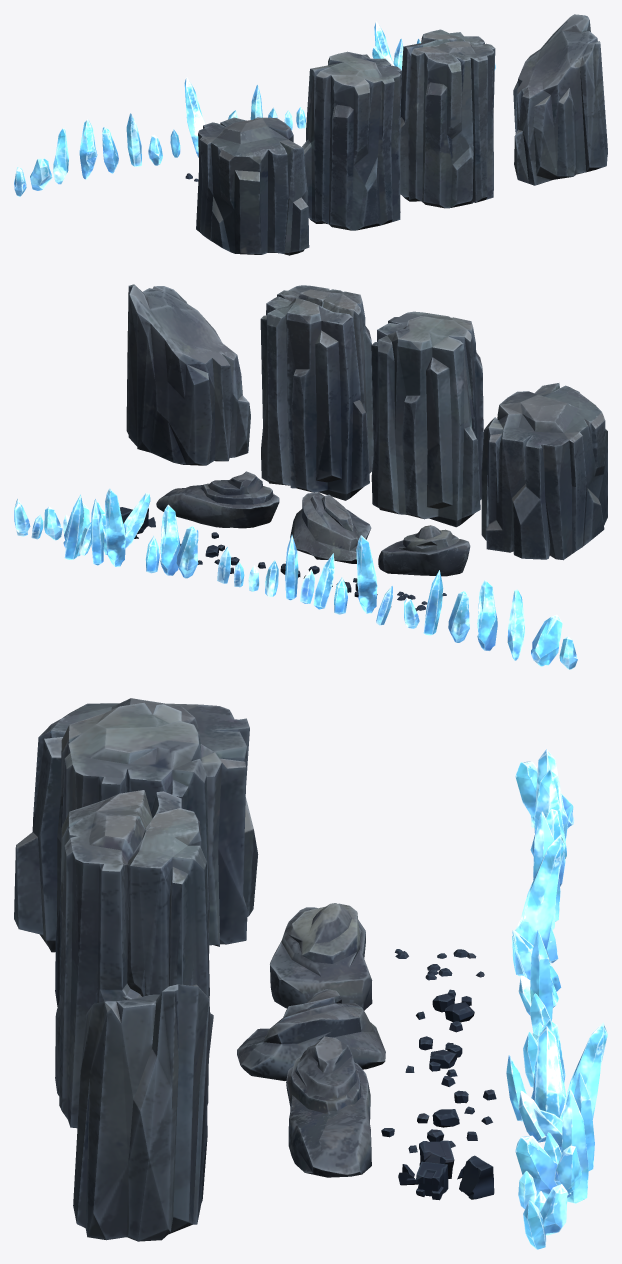
Rendered from StoneCrystal.fbx.
3 renders of one model, top to bottom at view 1: azimuth 30°, elevation 25°; view 2: azimuth 150°, elevation 25°; view 3: azimuth 270°, elevation 25°, orthographic. The views are drawn at different scales.
Parts seen in each view (by area): view 1: BigStone.007, BigStone.004, BigStone.006, BigStone.005, Crystal.009, Crystal.023, Crystal.005, Crystal.014, Crystal.020, Crystal.022, Crystal.018, Crystal.013; view 2: BigStone.004, BigStone.007, BigStone.006, BigStone.005, Mediumstone.003, Mediumstone.004, Mediumstone.005, Crystal.005, Crystal.007, Crystal.006, Crystal.009, Crystal.023 (+7 smaller); view 3: BigStone.004, BigStone.005, BigStone.006, BigStone.007, Mediumstone.003, Mediumstone.005, Mediumstone.004, Crystal.005, Crystal.006, Smallstone.006, Crystal.009, Crystal.004 (+10 smaller).
Part boxes in pixels (x1,y1,x2,y2): BigStone.007: [302, 51, 401, 230]; BigStone.004: [400, 29, 495, 208]; BigStone.006: [196, 117, 309, 255]; BigStone.005: [513, 14, 607, 185]; Crystal.009: [184, 77, 205, 156]; Crystal.023: [79, 119, 97, 179]; Crystal.005: [372, 21, 403, 70]; Crystal.014: [53, 128, 68, 184]; Crystal.020: [126, 113, 141, 166]; Crystal.022: [102, 127, 118, 173]; Crystal.018: [30, 158, 52, 190]; Crystal.013: [148, 134, 162, 165]; BigStone.004: [260, 285, 373, 500]; BigStone.007: [371, 311, 483, 527]; BigStone.006: [481, 383, 607, 560]; BigStone.005: [126, 284, 250, 465]; Mediumstone.003: [156, 471, 279, 528]; Mediumstone.004: [290, 492, 371, 563]; Mediumstone.005: [378, 525, 470, 576]; Crystal.005: [91, 488, 150, 566]; Crystal.007: [145, 504, 198, 578]; Crystal.006: [44, 494, 91, 559]; Crystal.009: [356, 535, 377, 613]; Crystal.023: [477, 580, 497, 650]; BigStone.004: [55, 790, 209, 1128]; BigStone.005: [73, 984, 213, 1241]; BigStone.006: [14, 698, 258, 952]; BigStone.007: [55, 702, 209, 1006]; Mediumstone.003: [286, 1036, 371, 1177]; Mediumstone.005: [270, 903, 372, 1010]; Mediumstone.004: [237, 989, 385, 1080]; Crystal.005: [518, 1022, 607, 1170]; Crystal.006: [515, 1089, 588, 1209]; Smallstone.006: [398, 1140, 494, 1200]; Crystal.009: [512, 834, 565, 976]; Crystal.004: [523, 1184, 567, 1249].
Bounding box in the file's own units: 148 × 46.77 × 83.73.
